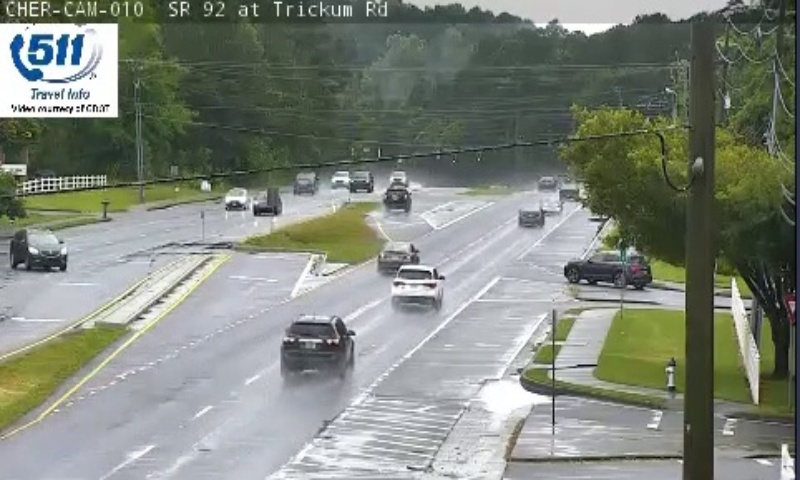car: (280, 315, 351, 371), (391, 263, 441, 304), (378, 240, 418, 277), (385, 185, 411, 209), (519, 203, 542, 225)
